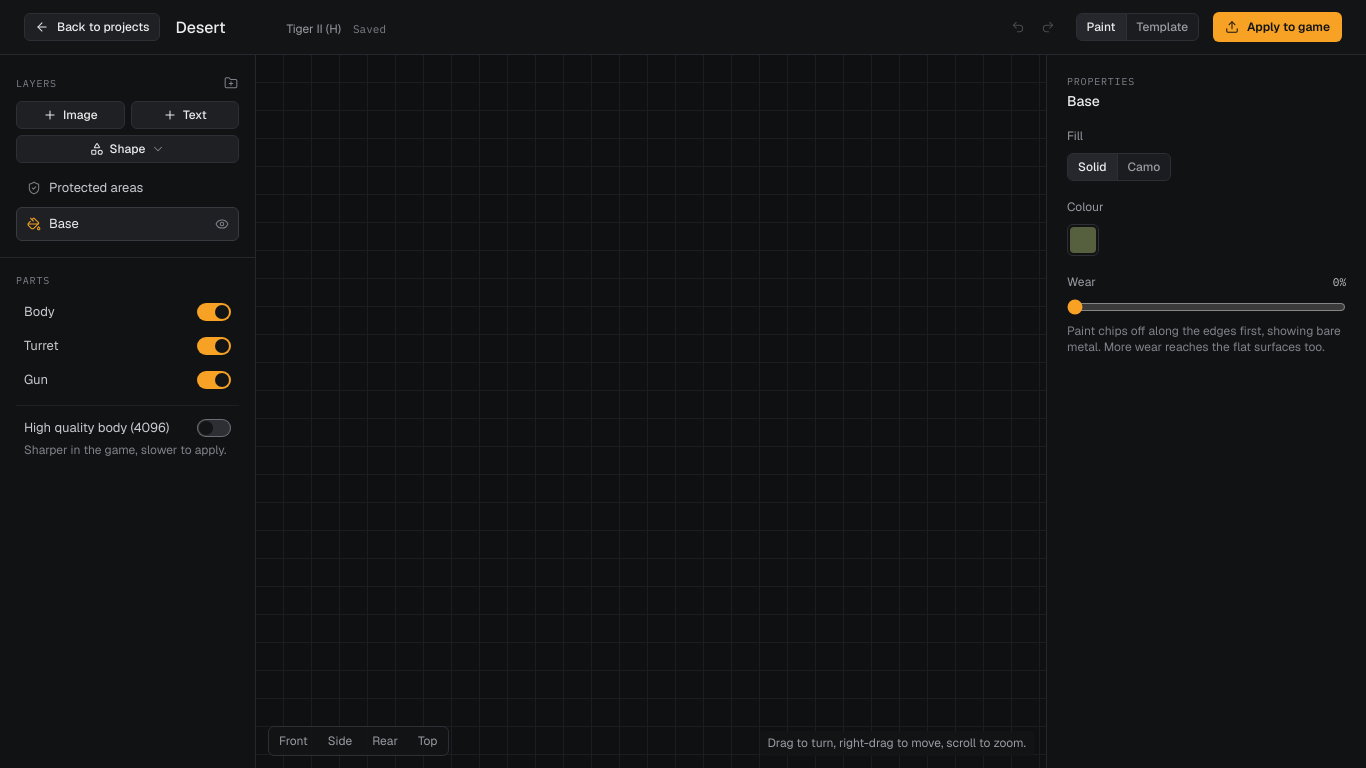
Test: Atelier editor › turns High quality off (with the reason) while the body isn’t painted
Expected: the element named "3D view of" is shown, [256,55,1046,767]
Expected: the switch named "High quality body (4096)" is enabled, [197,419,231,437]
Click the switch named "Paint Body" at (214, 312), box [197,303,231,321]
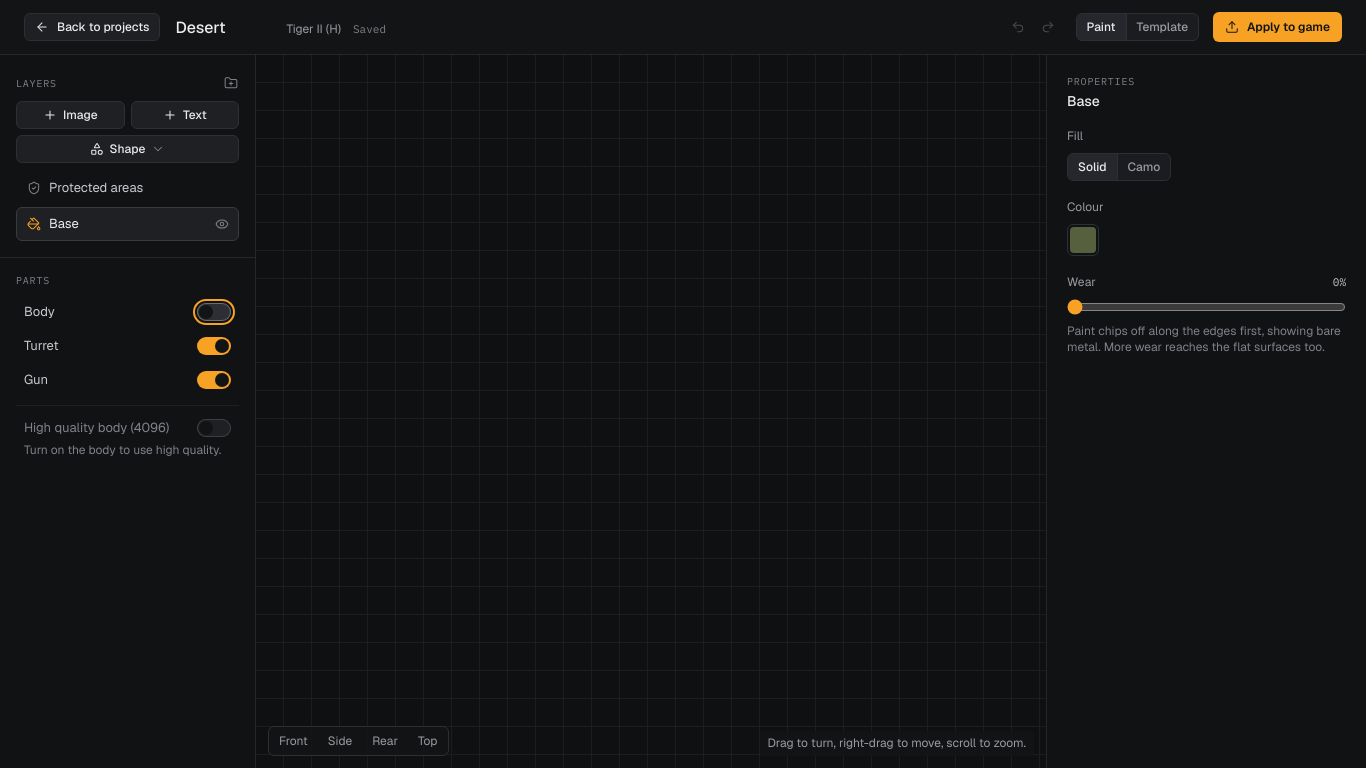
Expected: the switch named "High quality body (4096)" is disabled, [197,419,231,437]
Expected: the text "Turn on the body to use high quality." is shown, [24,442,231,458]
